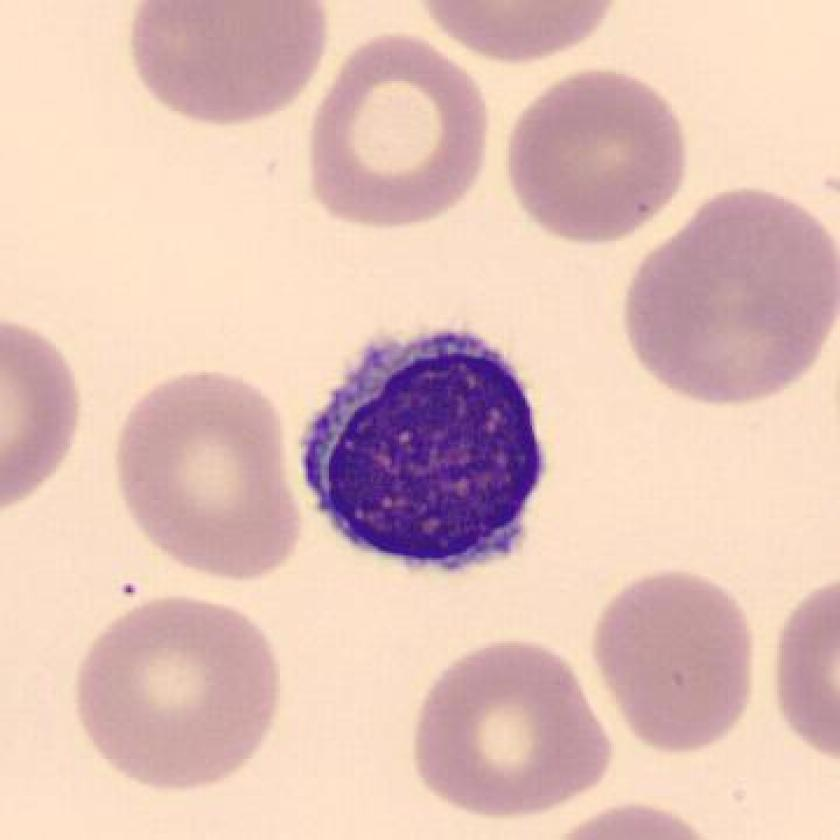lymphocyte: (283, 318, 561, 582)
